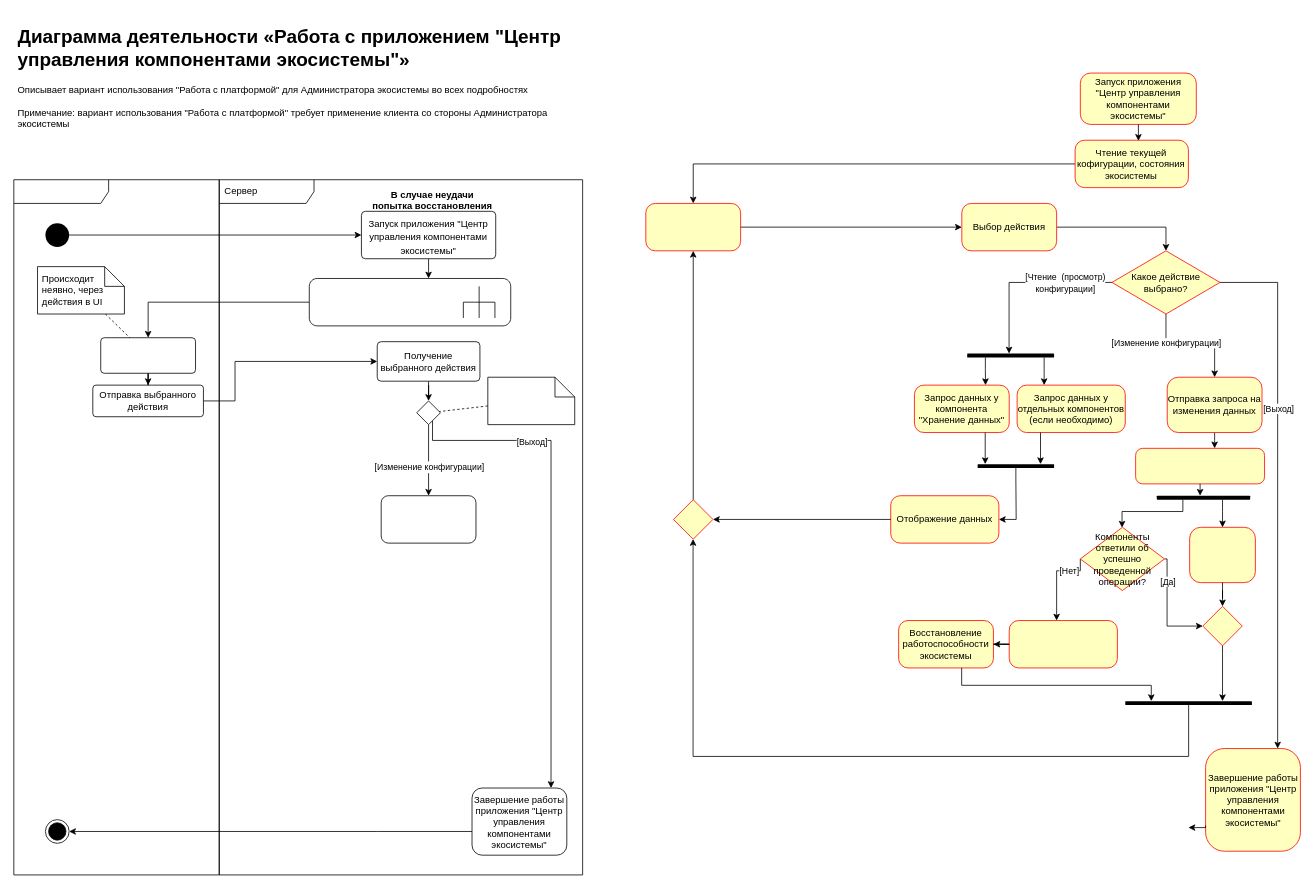
Image size: 1315x889. Some labels were removed from this diagram. The box of each missing label's shape, as (x1, y1, x2, y2) in pixels:
"decisionInput" Какое действие выбрано?: (487, 376, 575, 425)
(here) ReadConfiguration Чтение текущей кофигурации, состояния экосистемы: (308, 278, 511, 326)
Выбор действия из доступных: (100, 337, 196, 373)
Выбор доступного действия: (645, 203, 741, 251)
Запуск справки, средств восстановления и диагностики: (1008, 620, 1117, 668)
Клиент: (13, 179, 219, 875)
Ожидание ответа о результатах операции от компонентов: (1135, 448, 1265, 484)
Отправка запроса на изменение конфигурации: (380, 495, 476, 543)
Отправка статуса операции пользователю: (1189, 527, 1255, 583)
